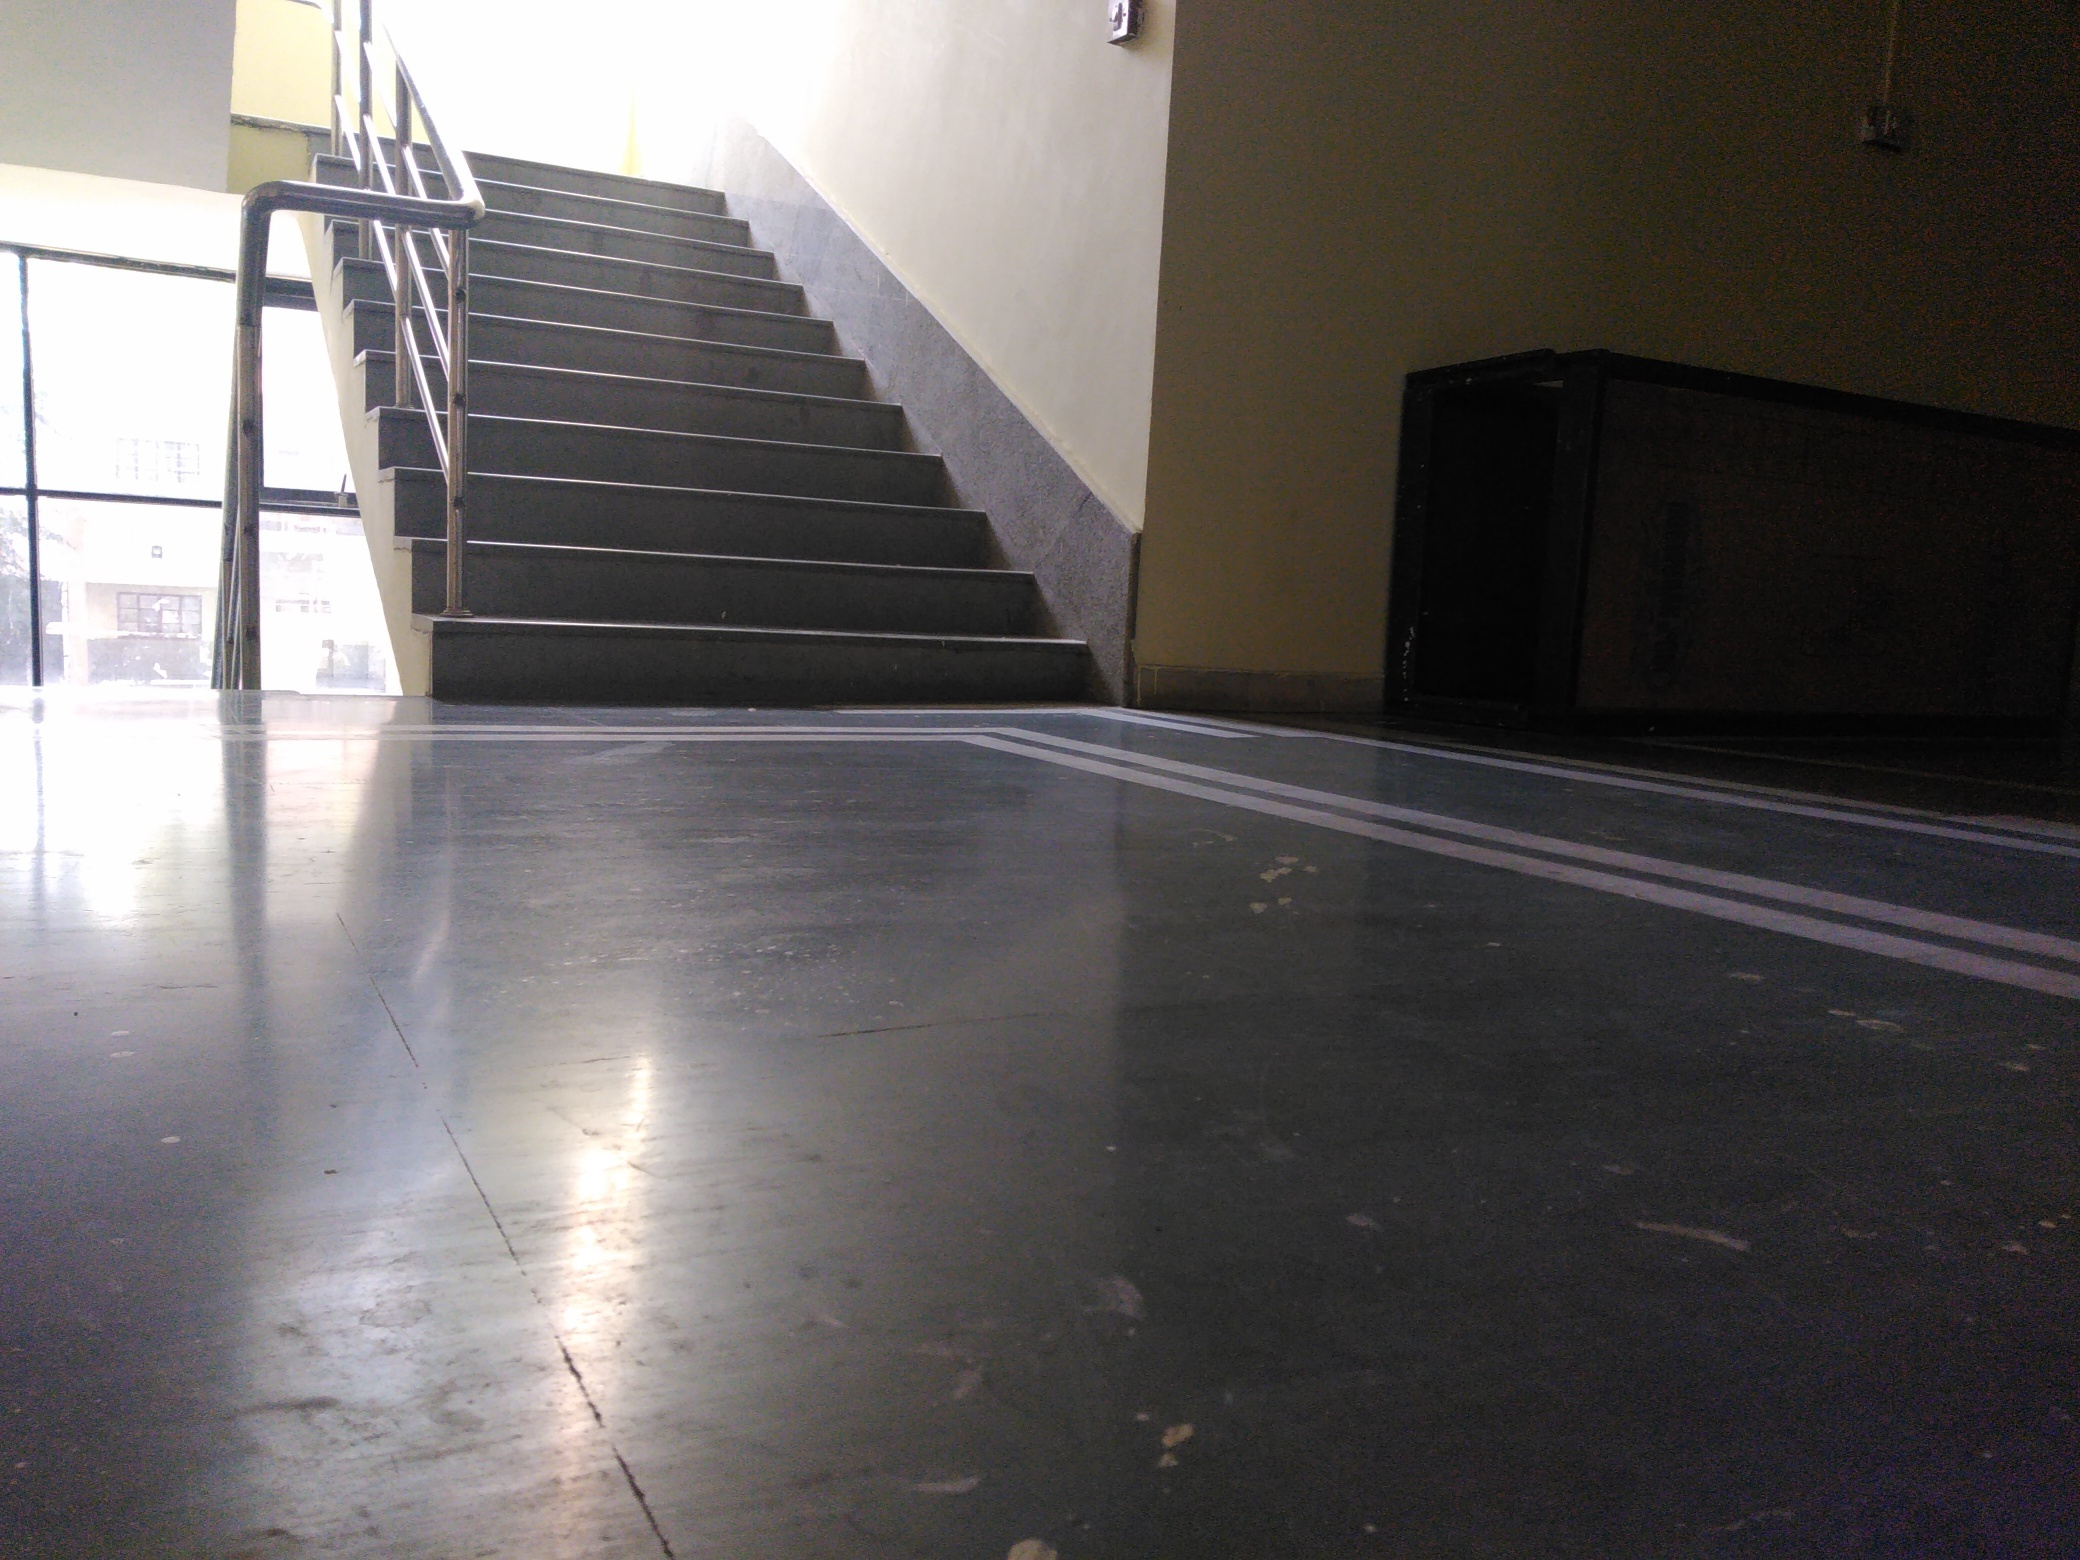stairs_up: (310, 116, 1112, 705)
